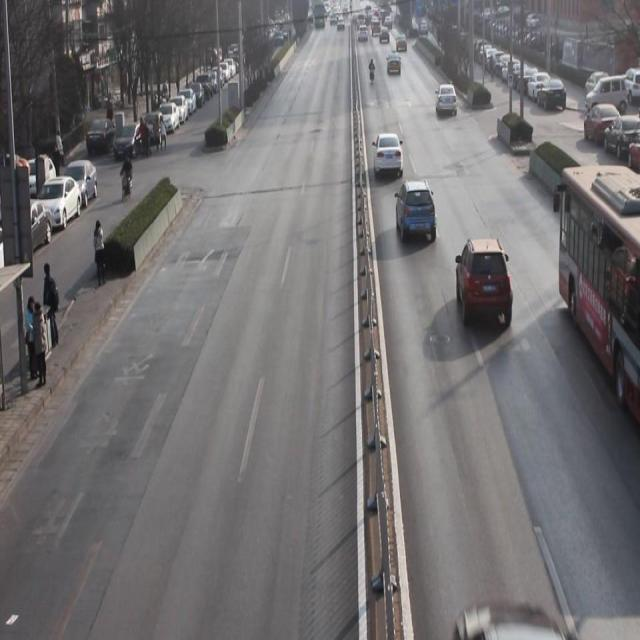car: (454, 242, 514, 332), (394, 186, 438, 253), (373, 132, 405, 182), (436, 87, 458, 122), (387, 54, 402, 79)
van: (556, 166, 640, 415)
